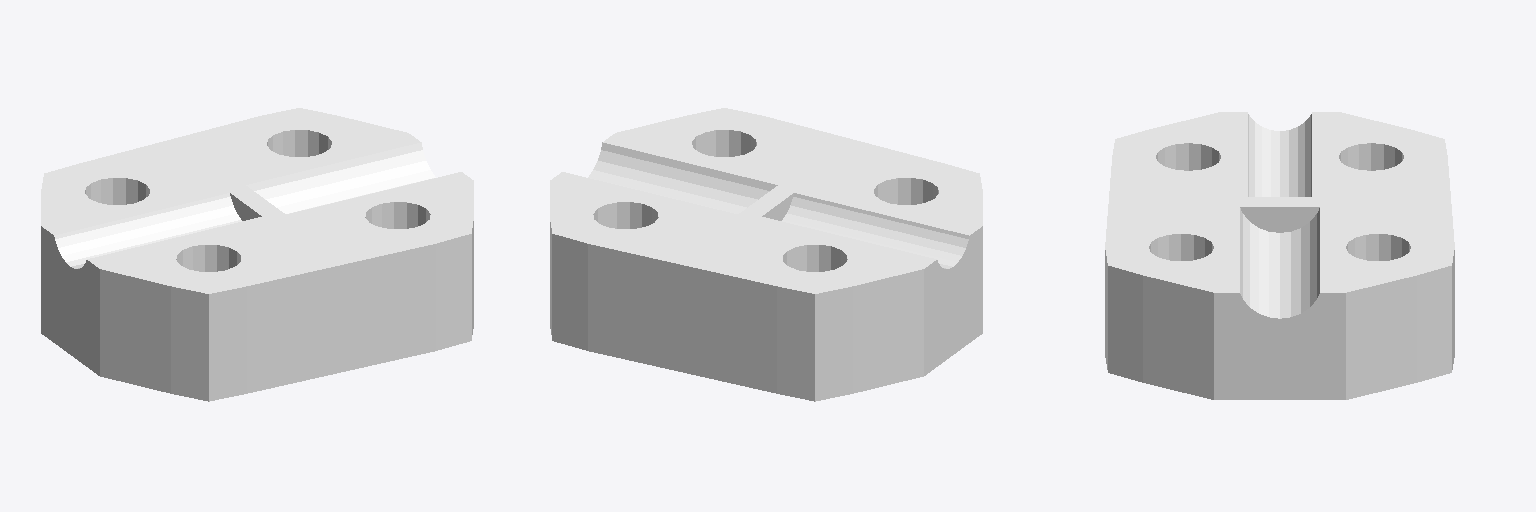
The model's file is coupler.obj.
The picture shows the model from 3 angles: view 1: azimuth 30°, elevation 25°; view 2: azimuth 150°, elevation 25°; view 3: azimuth 270°, elevation 25°; orthographic projection.
Parts seen in each view (by area): view 1: Mesh1 Model; view 2: Mesh1 Model; view 3: Mesh1 Model.
Part boxes in pixels (x1,y1,x2,y2): Mesh1 Model: (41,108,473,401); Mesh1 Model: (550,108,982,401); Mesh1 Model: (1105,112,1454,399).
Size of the model in its own units: 30 by 8.3 by 24.5.